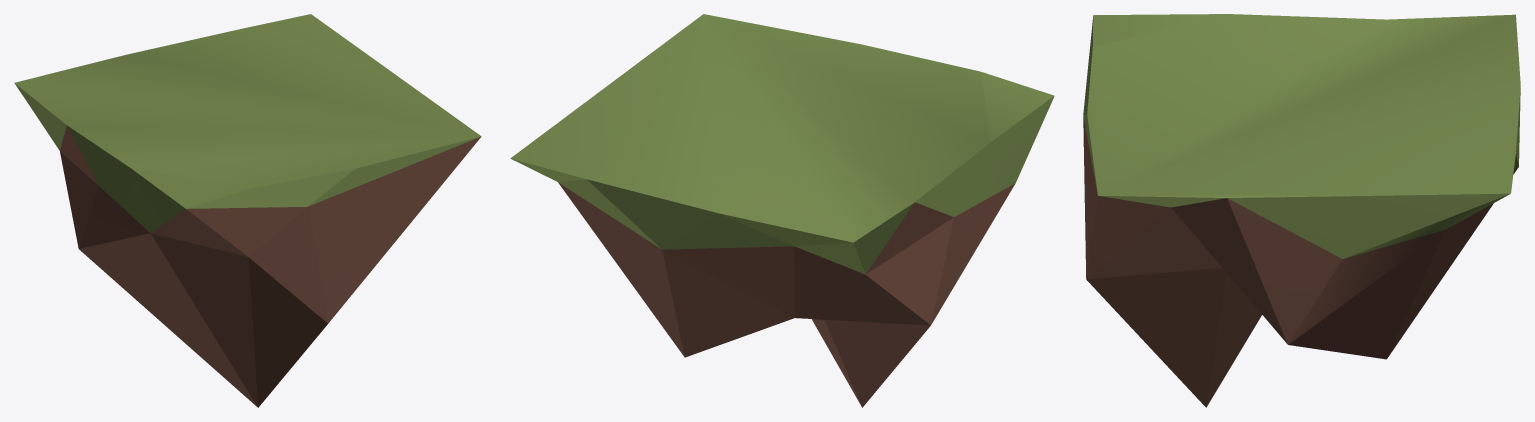
The model's file is tutorial.fbx.
3 renders of one model, left to right at view 1: azimuth 30°, elevation 25°; view 2: azimuth 150°, elevation 25°; view 3: azimuth 270°, elevation 25°, orthographic. The views are drawn at different scales.
Parts seen in each view (by area): view 1: Icosphere.001; view 2: Icosphere.001; view 3: Icosphere.001.
Part boxes in pixels (x1,y1,x2,y2): Icosphere.001: (14,14,481,407); Icosphere.001: (510,14,1054,407); Icosphere.001: (1083,14,1520,407).
Bounding box in the file's own units: 743 × 633 × 765.
